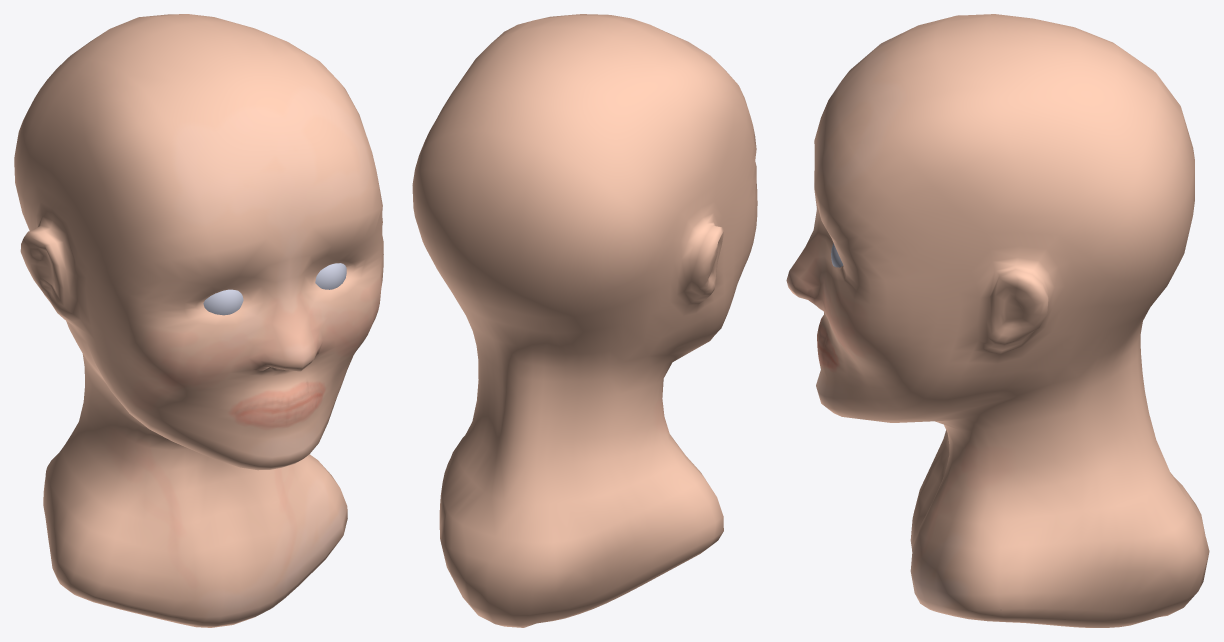
The picture shows the model from 3 angles, left to right: view 1: azimuth 30°, elevation 25°; view 2: azimuth 150°, elevation 25°; view 3: azimuth 270°, elevation 25°; orthographic projection. The views are drawn at different scales.
Parts seen in each view (by area): view 1: Plane, eyes; view 2: Plane; view 3: Plane.
Part boxes in pixels (left/top/right/bottom): Plane: left=14, top=14, right=383, bottom=627; eyes: left=203, top=263, right=346, bottom=315; Plane: left=412, top=14, right=757, bottom=627; Plane: left=786, top=14, right=1209, bottom=627.
Size of the model in its own units: 2.7 by 4.65 by 3.09.
1 material, 1 textured.
